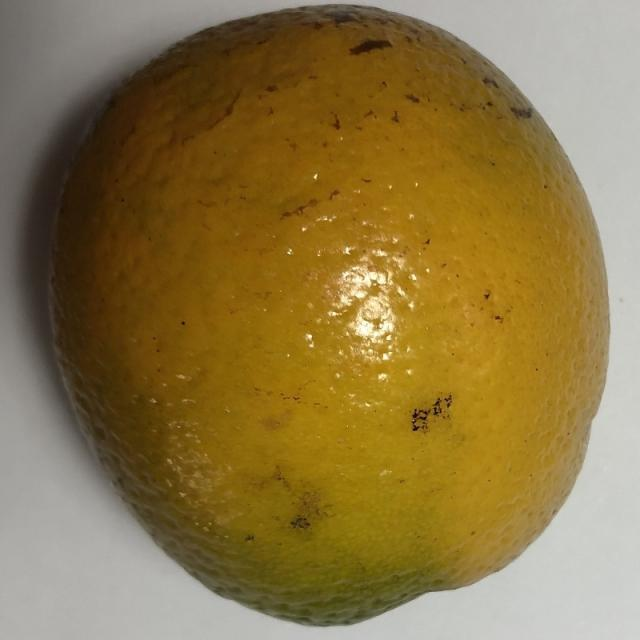blackspot: (13, 12, 616, 640)
